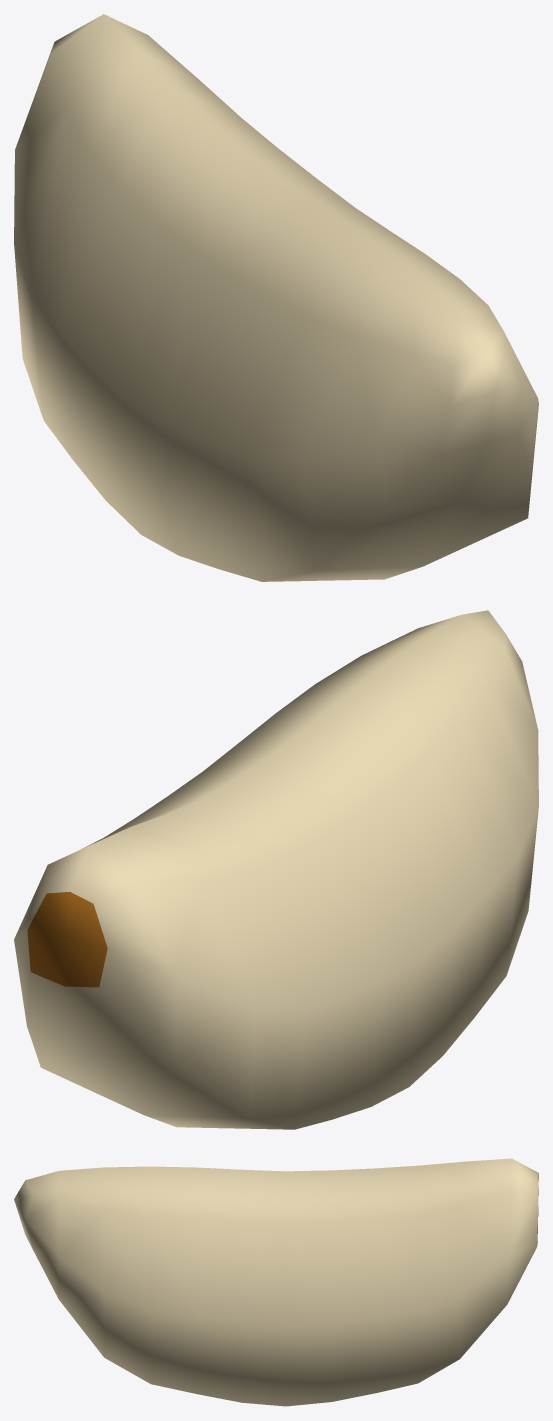
File: Garlic.fbx
3 views of the same model, one above another, from view 1: azimuth 30°, elevation 25°; view 2: azimuth 150°, elevation 25°; view 3: azimuth 270°, elevation 25° (orthographic). The views are drawn at different scales.
Visible parts, largest first — view 1: pCube1; view 2: pCube1; view 3: pCube1.
Part boxes in pixels (x1,y1,x2,y2): pCube1: (14, 14, 538, 581); pCube1: (14, 610, 538, 1129); pCube1: (14, 1158, 538, 1406).
Size of the model in its own units: 1.13 by 1.42 by 2.91.
